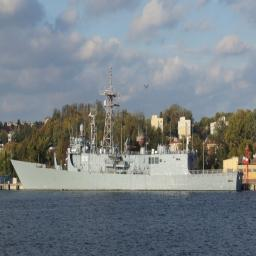Fragata: (10, 61, 247, 196)
